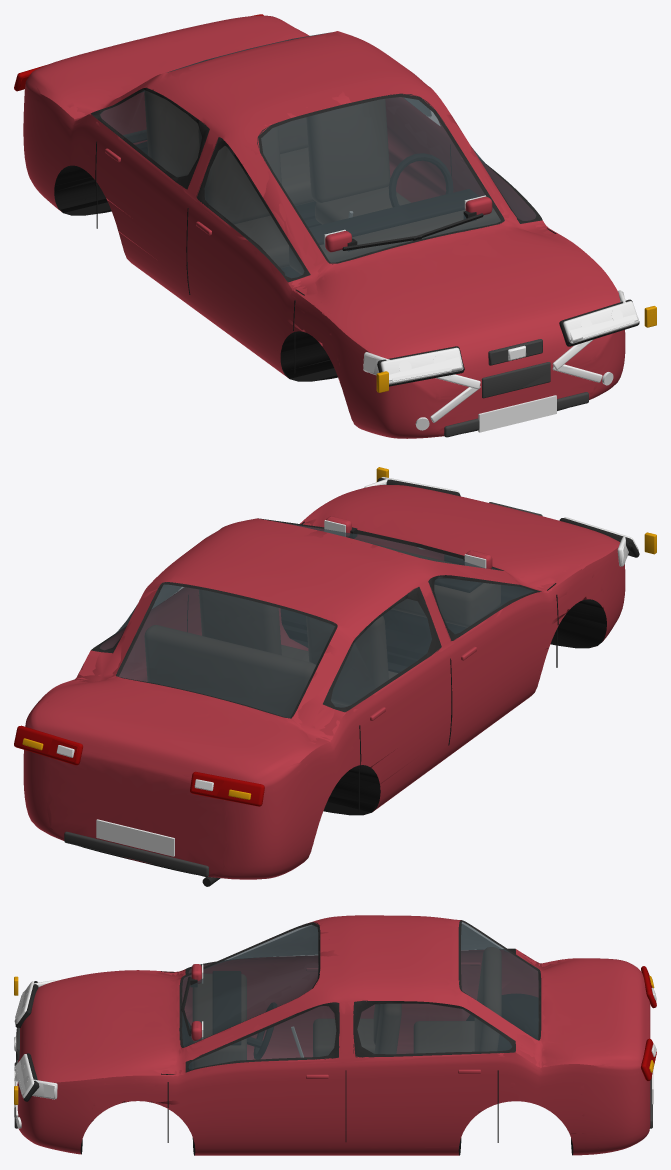
File: vesta.glb
3 renders of one model, top to bottom at view 1: azimuth 30°, elevation 25°; view 2: azimuth 150°, elevation 25°; view 3: azimuth 270°, elevation 25°, orthographic. The views are drawn at different scales.
Parts seen in each view (by area): view 1: LOD_hi, LOD0; view 2: LOD_hi, LOD0; view 3: LOD_hi, LOD0.
Part boxes in pixels (x1,y1,x2,y2): LOD_hi: [14, 14, 656, 438]; LOD0: [15, 15, 656, 434]; LOD_hi: [14, 467, 656, 886]; LOD0: [21, 470, 656, 885]; LOD_hi: [14, 915, 656, 1155]; LOD0: [14, 917, 656, 1154].
Size of what is drawn, in the model's own units: 1.87 by 1.29 by 4.48.
